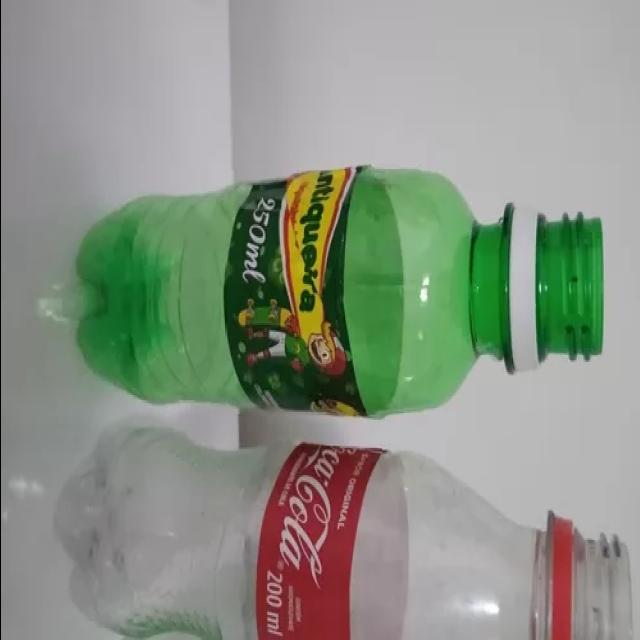bottom: (55, 429, 220, 638), (78, 197, 193, 402)
label: (225, 171, 365, 414), (256, 446, 381, 639)
neck: (417, 162, 604, 415), (412, 456, 634, 639)
